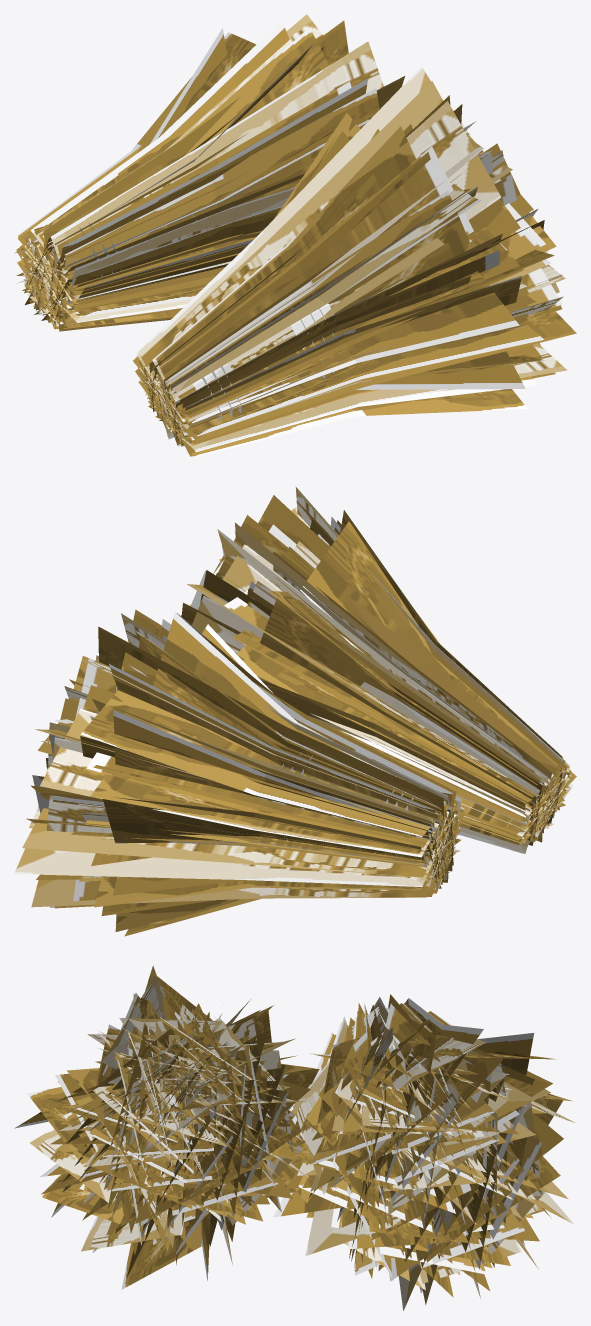
File: MS_WindmillWheat2.fbx
3 renders of one model, top to bottom at view 1: azimuth 30°, elevation 25°; view 2: azimuth 150°, elevation 25°; view 3: azimuth 270°, elevation 25°, orthographic. The views are drawn at different scales.
Visible parts, largest first — view 1: Plane.001; view 2: Plane.001; view 3: Plane.001.
Part boxes in pixels (x1,y1,x2,y2): Plane.001: [14, 14, 576, 457]; Plane.001: [14, 486, 576, 936]; Plane.001: [14, 965, 574, 1310].
Size of the model in its own units: 784 by 629 by 1064.
